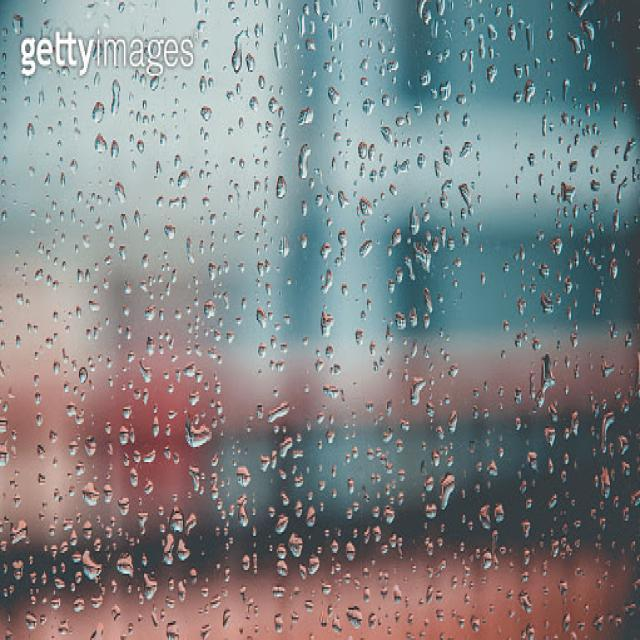raindrop: (532, 344, 559, 412), (409, 230, 439, 282), (436, 468, 464, 522), (182, 414, 218, 454), (404, 368, 432, 418), (261, 389, 296, 426), (454, 168, 476, 226), (6, 510, 34, 554), (233, 488, 256, 541), (294, 135, 316, 189), (78, 538, 104, 583), (159, 528, 181, 576), (284, 524, 309, 566), (340, 603, 368, 640), (184, 461, 208, 504), (77, 479, 106, 514), (355, 186, 378, 230), (316, 308, 340, 350), (418, 492, 446, 528), (251, 292, 272, 338), (112, 549, 138, 585), (164, 499, 188, 537), (293, 98, 317, 136), (108, 70, 124, 126), (566, 27, 589, 64), (89, 95, 110, 134), (230, 30, 246, 80), (379, 115, 399, 155), (478, 500, 498, 540), (406, 198, 423, 245), (181, 229, 201, 268), (114, 487, 134, 525), (136, 354, 158, 388), (92, 132, 114, 166), (272, 168, 291, 207), (342, 533, 362, 570), (597, 356, 620, 388), (164, 215, 186, 248), (274, 528, 293, 566), (291, 490, 310, 528), (274, 548, 294, 584), (316, 264, 336, 300), (274, 426, 295, 460), (305, 552, 327, 584), (328, 78, 347, 115), (171, 165, 192, 198), (358, 232, 377, 268), (602, 406, 616, 454), (523, 442, 541, 479), (110, 174, 129, 209), (294, 10, 312, 46), (174, 532, 193, 566), (147, 408, 163, 448), (234, 460, 254, 492), (274, 504, 292, 539), (566, 407, 584, 442), (556, 609, 576, 640), (608, 253, 623, 294), (242, 40, 260, 74), (114, 415, 130, 453), (82, 432, 101, 464), (382, 497, 399, 532), (405, 297, 422, 332), (524, 78, 540, 115), (264, 88, 282, 120), (539, 288, 557, 320), (202, 294, 221, 324), (266, 579, 288, 604), (442, 134, 456, 173), (601, 462, 614, 504), (278, 230, 294, 264), (246, 89, 264, 119), (126, 461, 142, 494), (421, 468, 441, 494), (359, 94, 379, 120), (198, 98, 216, 126), (480, 542, 494, 578), (544, 420, 558, 456), (535, 257, 553, 284), (558, 178, 576, 205), (77, 362, 93, 392), (148, 68, 163, 100), (438, 76, 453, 108), (23, 118, 38, 148), (303, 503, 319, 531), (272, 609, 286, 640), (395, 152, 413, 176), (274, 35, 284, 77), (418, 62, 433, 90), (389, 581, 404, 608), (0, 436, 11, 472), (318, 237, 332, 265), (519, 588, 533, 616), (548, 233, 566, 254), (318, 578, 336, 598), (357, 136, 369, 166), (304, 34, 320, 56), (254, 334, 266, 362), (394, 306, 406, 334), (390, 225, 404, 249), (121, 398, 134, 422), (49, 358, 62, 382), (118, 238, 130, 264), (195, 70, 209, 92), (133, 204, 144, 231), (88, 298, 104, 316), (144, 301, 156, 324), (433, 606, 448, 624), (141, 250, 152, 274), (34, 408, 44, 432), (120, 210, 130, 234), (13, 290, 24, 310), (32, 388, 44, 406), (74, 304, 84, 324), (34, 264, 44, 284), (44, 332, 54, 352), (32, 369, 42, 387), (76, 264, 83, 289), (158, 306, 166, 326)
